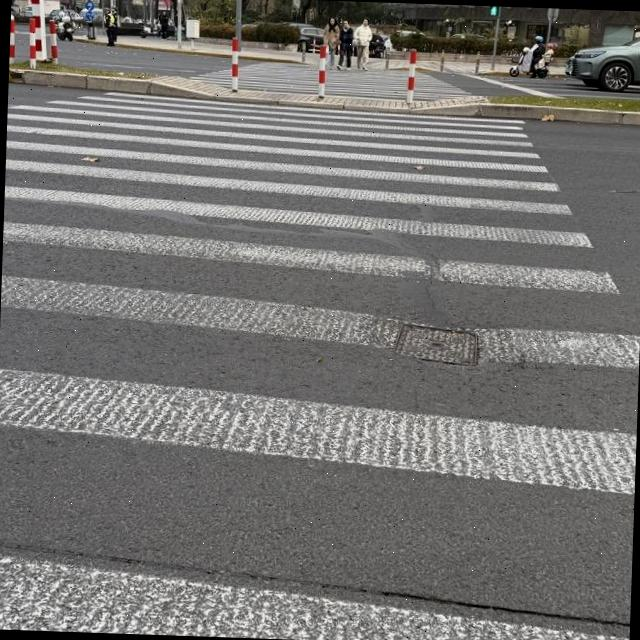curb: (8, 69, 228, 98), (406, 102, 640, 125), (115, 43, 231, 57), (238, 55, 307, 64), (478, 71, 508, 76), (390, 68, 409, 70)
